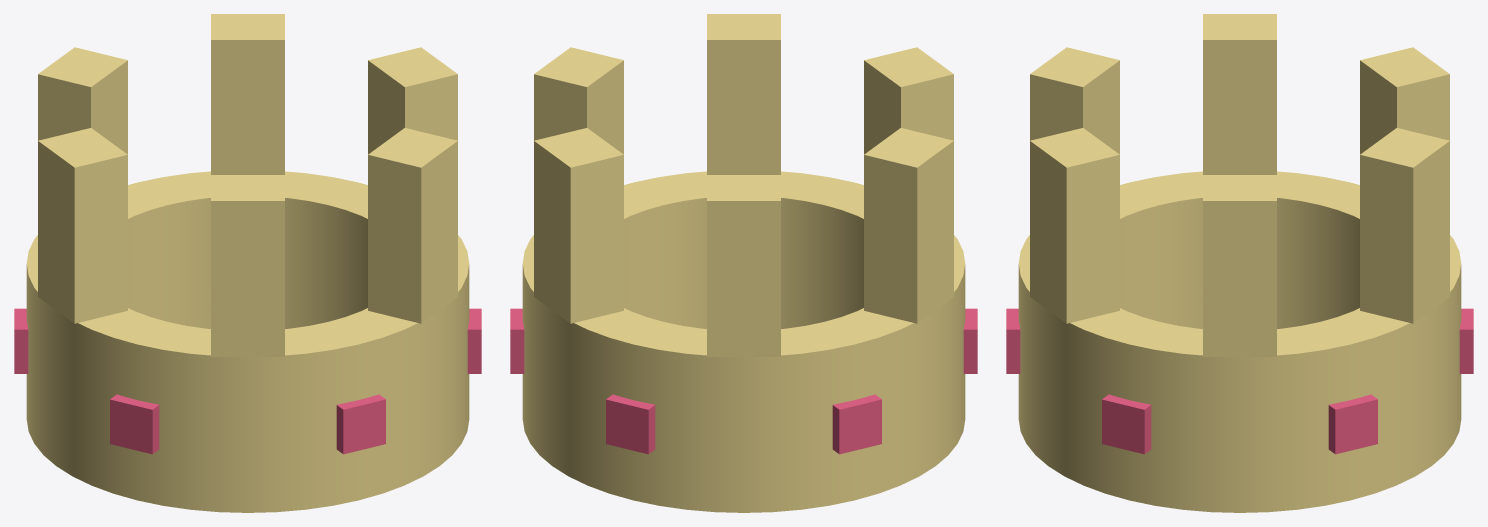
Rendered from crown.glb.
3 views of the same model, side by side, from view 1: azimuth 30°, elevation 25°; view 2: azimuth 150°, elevation 25°; view 3: azimuth 270°, elevation 25° (orthographic).
Parts seen in each view (by area): view 1: crown; view 2: crown; view 3: crown.
Boxes of the visible parts, x1,y1,x2,y2 form: crown: (14, 14, 481, 512); crown: (510, 14, 977, 512); crown: (1006, 14, 1473, 512).
Bounding box in the file's own units: 0.36 × 0.28 × 0.38.
